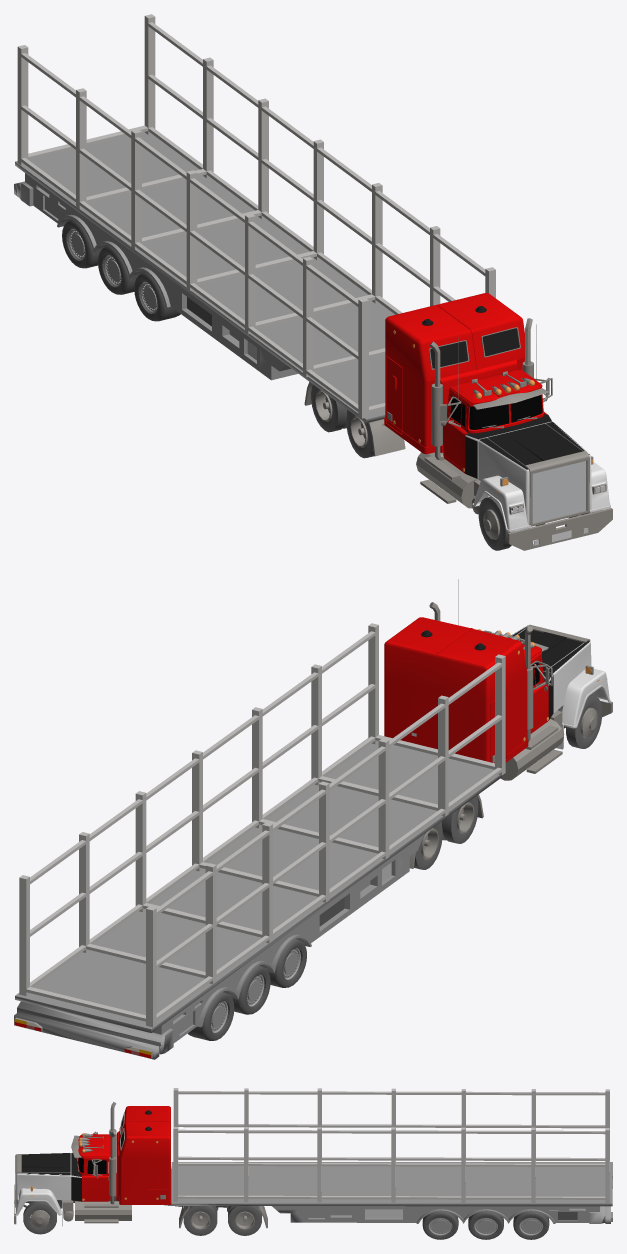
Rendered from SemiTruck_A.fbx.
3 renders of one model, top to bottom at view 1: azimuth 30°, elevation 25°; view 2: azimuth 150°, elevation 25°; view 3: azimuth 270°, elevation 25°, orthographic. The views are drawn at different scales.
Parts seen in each view (by area): view 1: SemiTruck_A; view 2: SemiTruck_A; view 3: SemiTruck_A.
Boxes of the visible parts, left/top/right/bottom form: SemiTruck_A: left=14, top=14, right=612, bottom=550; SemiTruck_A: left=14, top=579, right=612, bottom=1059; SemiTruck_A: left=14, top=1088, right=612, bottom=1239.
Bounding box in the file's own units: 278 × 322 × 1567.
